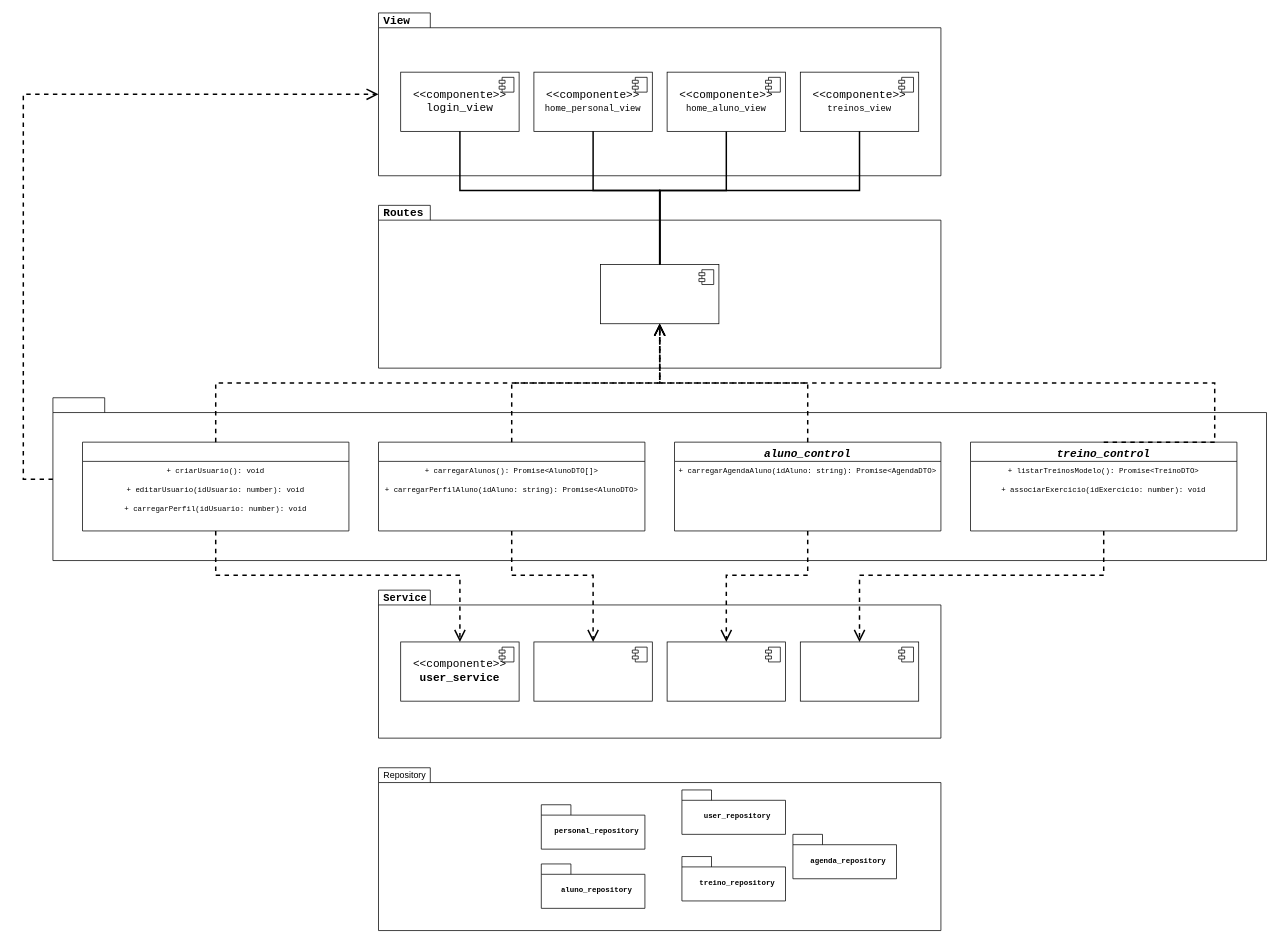
The diagram is 1279 pixels wide and 944 high, and some of its shapes have lost their labels. Each missing label, with the box of its shape:
<<componente>> agenda_service: (666, 641, 786, 701)
<<componente>> personal_service: (533, 641, 652, 701)
<<componente>> routes: (600, 264, 719, 324)
<<componente>> treino_service: (800, 641, 919, 701)
Controller: (52, 397, 1267, 561)
personal_control: (378, 441, 645, 531)
user_control: (82, 441, 349, 531)
